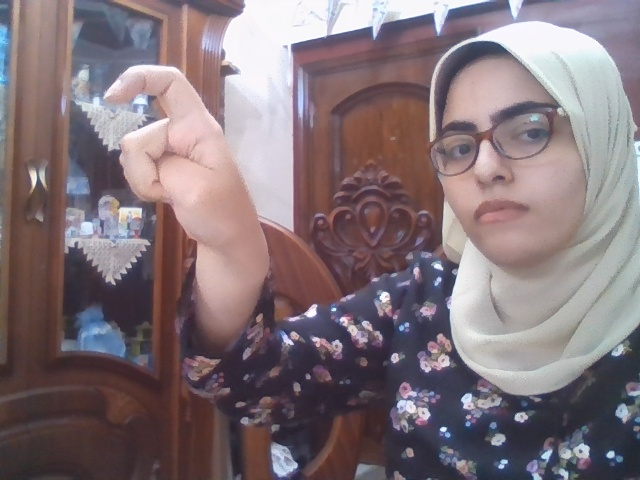X: (104, 65, 261, 249)
